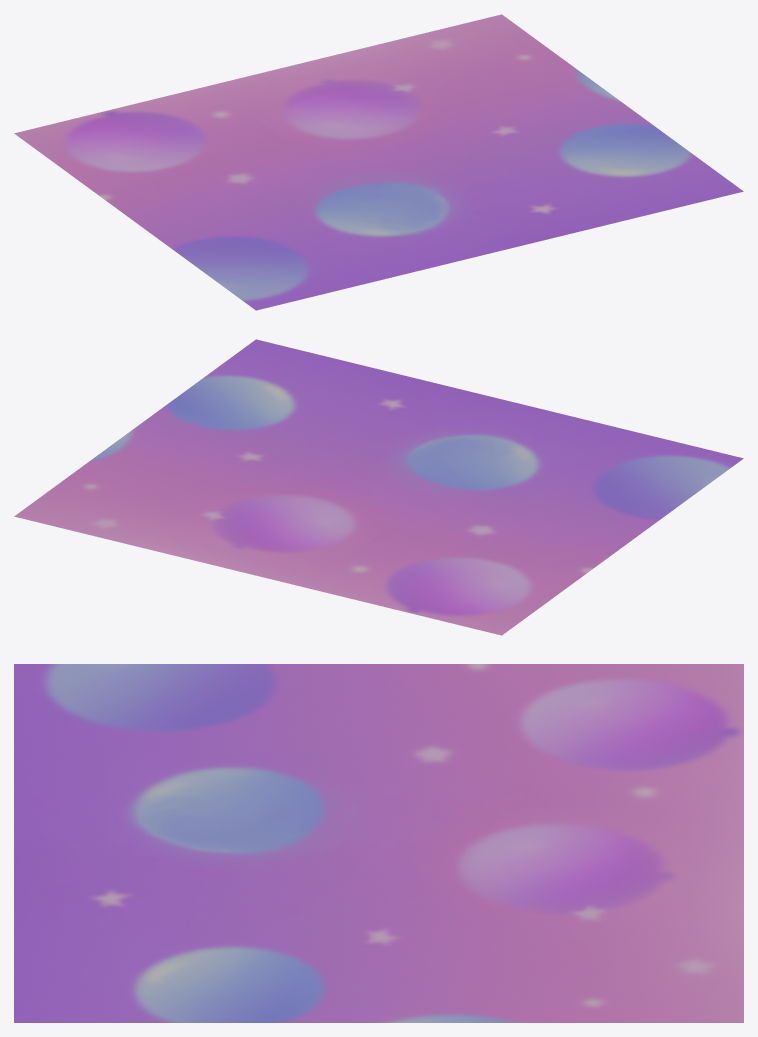
3 renders of one model, top to bottom at view 1: azimuth 30°, elevation 25°; view 2: azimuth 150°, elevation 25°; view 3: azimuth 270°, elevation 25°, orthographic. The views are drawn at different scales.
Visible parts, largest first — view 1: model_BG; view 2: model_BG; view 3: model_BG.
Part boxes in pixels (x1,y1,x2,y2): model_BG: (14, 14, 743, 310); model_BG: (14, 339, 743, 635); model_BG: (14, 664, 743, 1022).
Bounding box in the file's own units: 1090 × 0 × 936.
